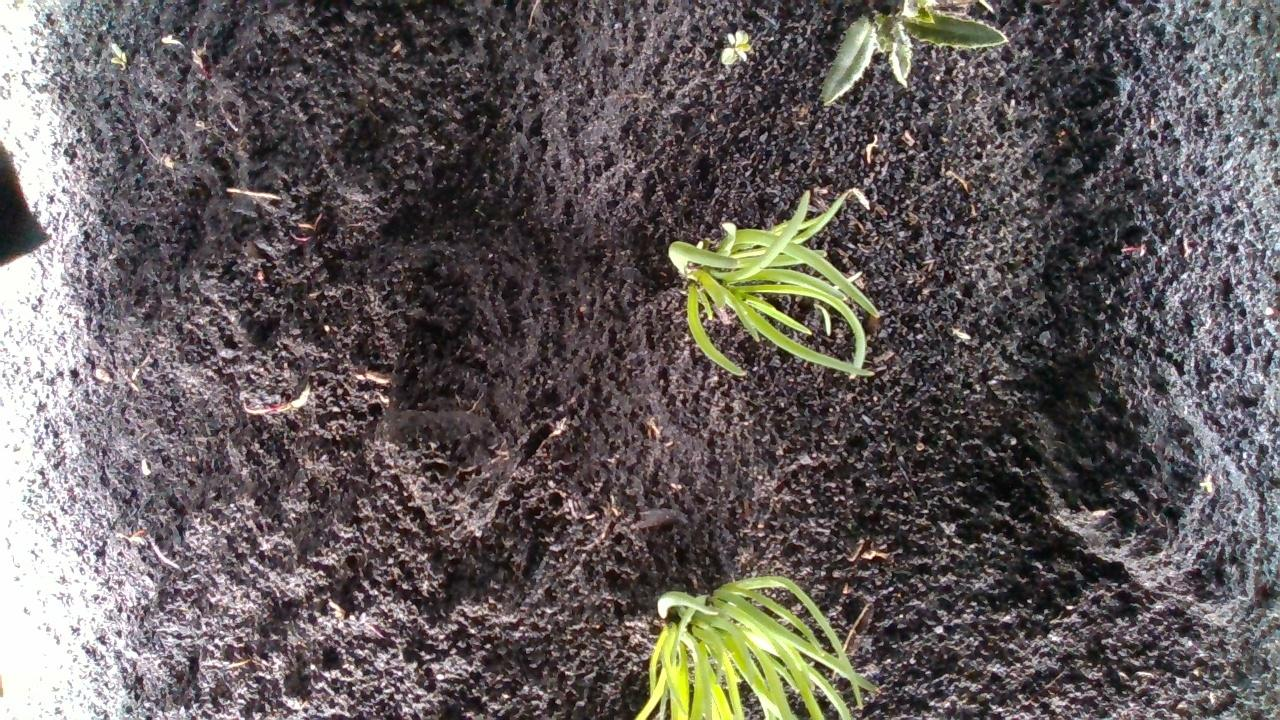weed: (722, 27, 749, 68), (103, 40, 127, 71)
